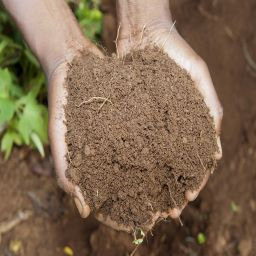dirt: (62, 47, 214, 226)
